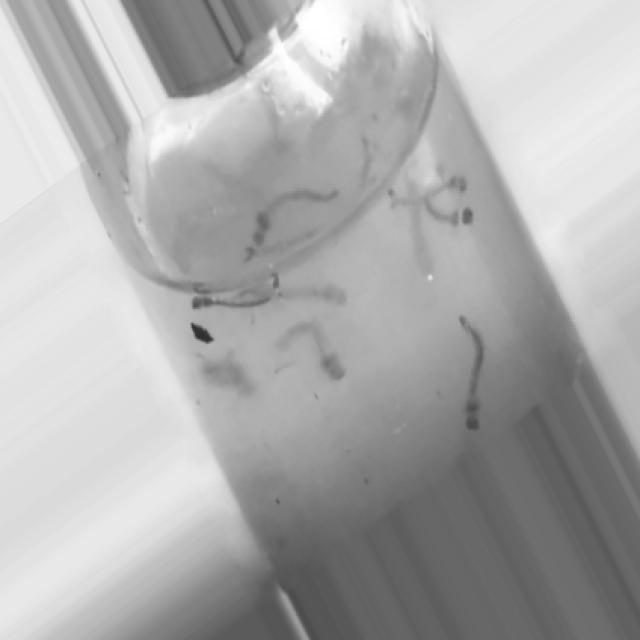larvas: (225, 164, 341, 265), (237, 227, 329, 274), (279, 322, 345, 376), (459, 315, 489, 430), (380, 179, 466, 205), (198, 354, 260, 390), (249, 288, 353, 306), (409, 214, 438, 270), (189, 298, 271, 313), (426, 208, 476, 226)
